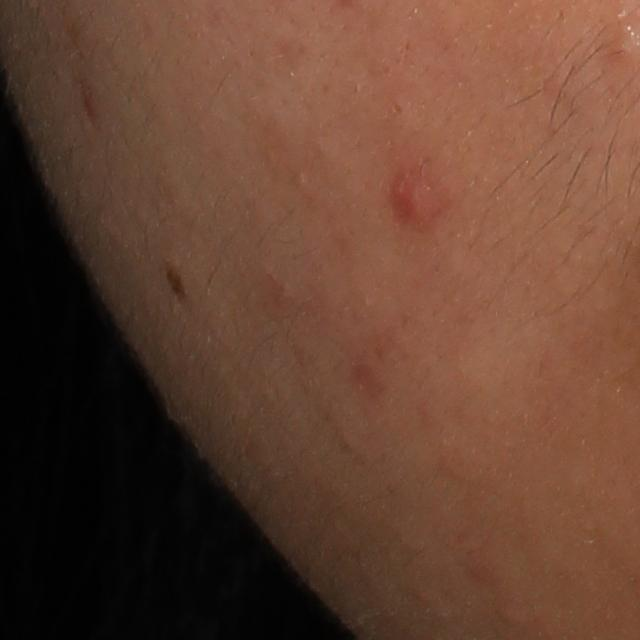nevus: (164, 261, 182, 303)
